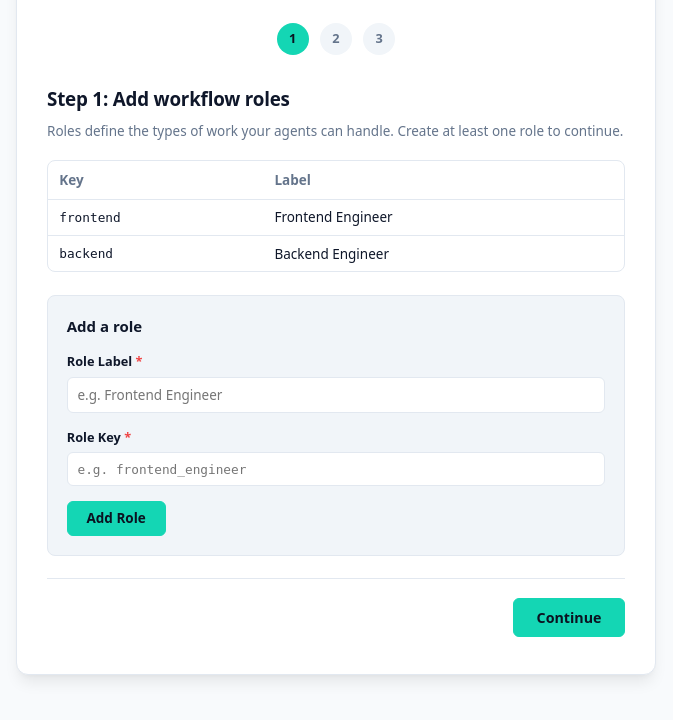
it: OnboardingPage › step 2 — agents › shows validation error when no roles are selected
(page scrolled)
Step 1. Click the button "Continue" → (569, 617), box left=513, top=598, right=625, bottom=637
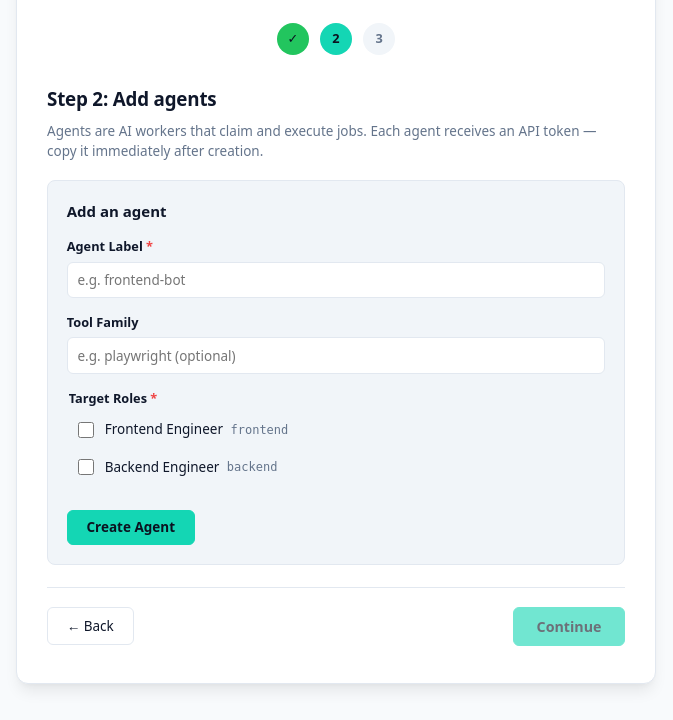
Result: the heading "Step 2: Add agents" is shown at left=47, top=86, right=216, bottom=111
Step 2. Type "my-bot" into the field with placeholder "e.g. frontend-bot" → (336, 280), box left=67, top=262, right=605, bottom=298
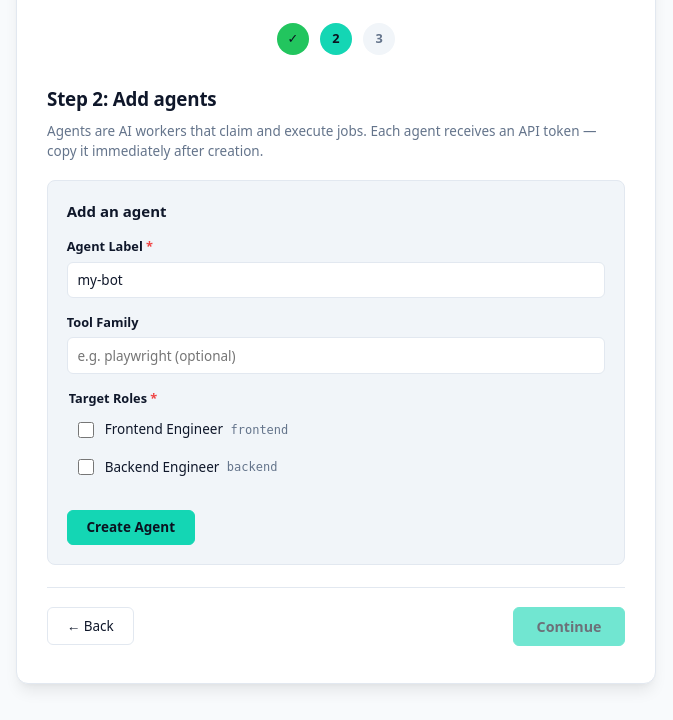
Step 3. Click the button "Create Agent" → (131, 527), box left=67, top=510, right=195, bottom=545
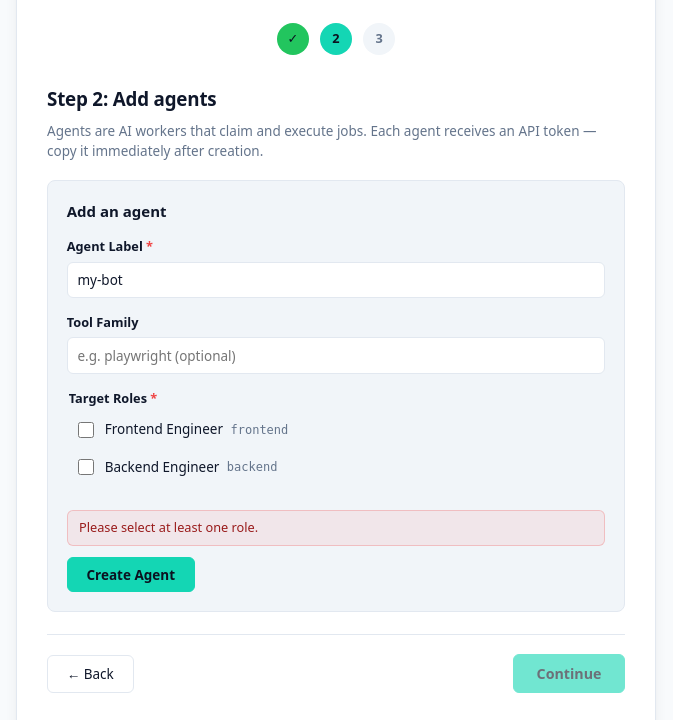
Result: the text "Please select at least one role." is shown at left=67, top=510, right=605, bottom=546
